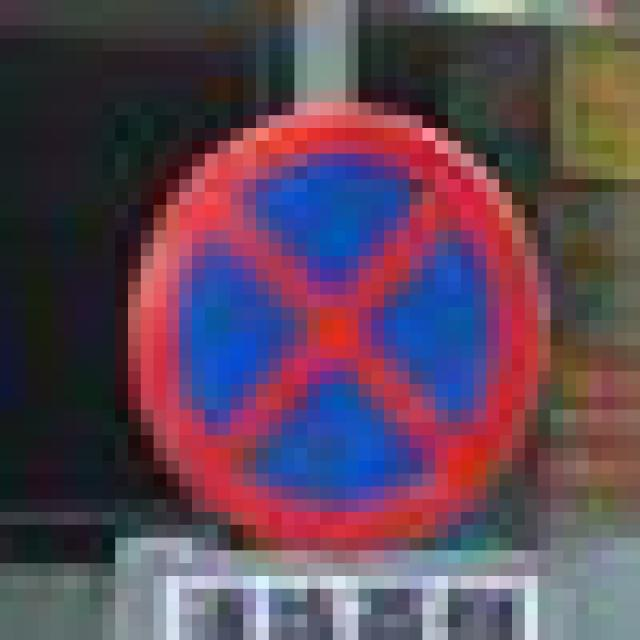no_parking: (102, 90, 525, 538)
